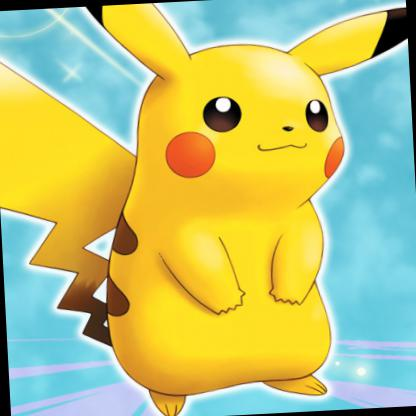Pikachu: (1, 1, 416, 416)
